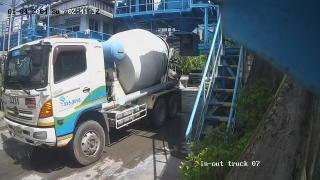cement_mixer_truck: (0, 29, 181, 166)
